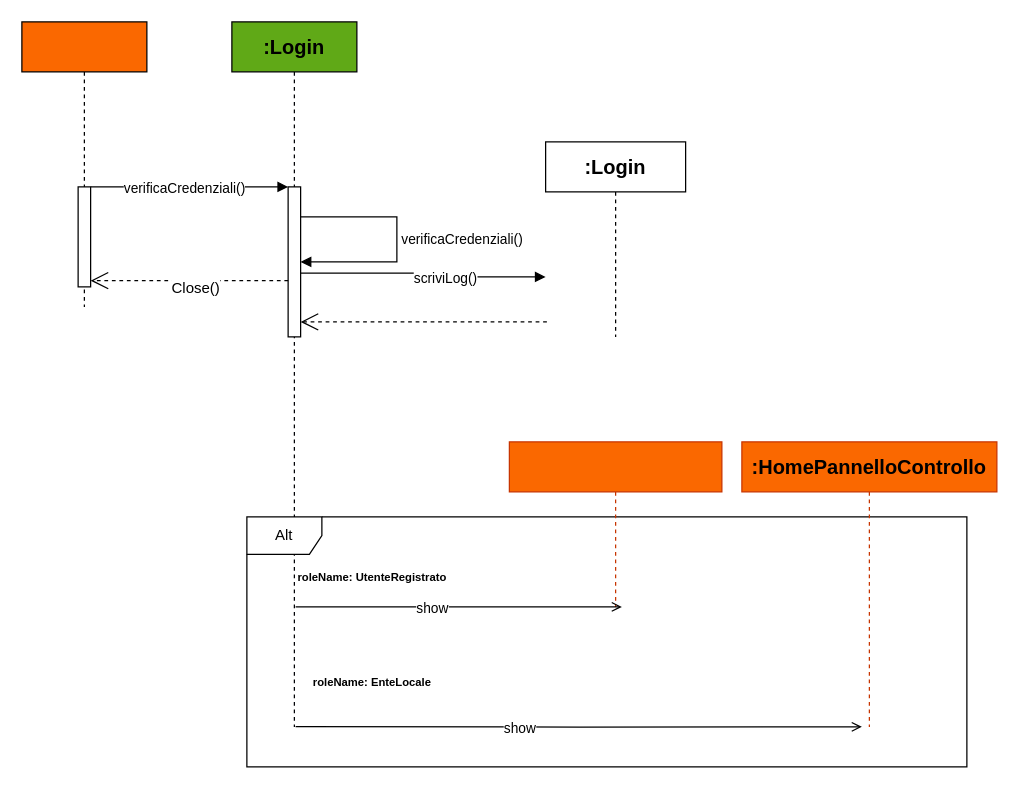
Some shapes in this 1019 by 789 pixel diagram are drawn without their labels. Each missing label, with the box of its shape:
:HomeAreaPersonale: (508, 441, 722, 607)
:ViewLogin: (21, 21, 147, 307)
